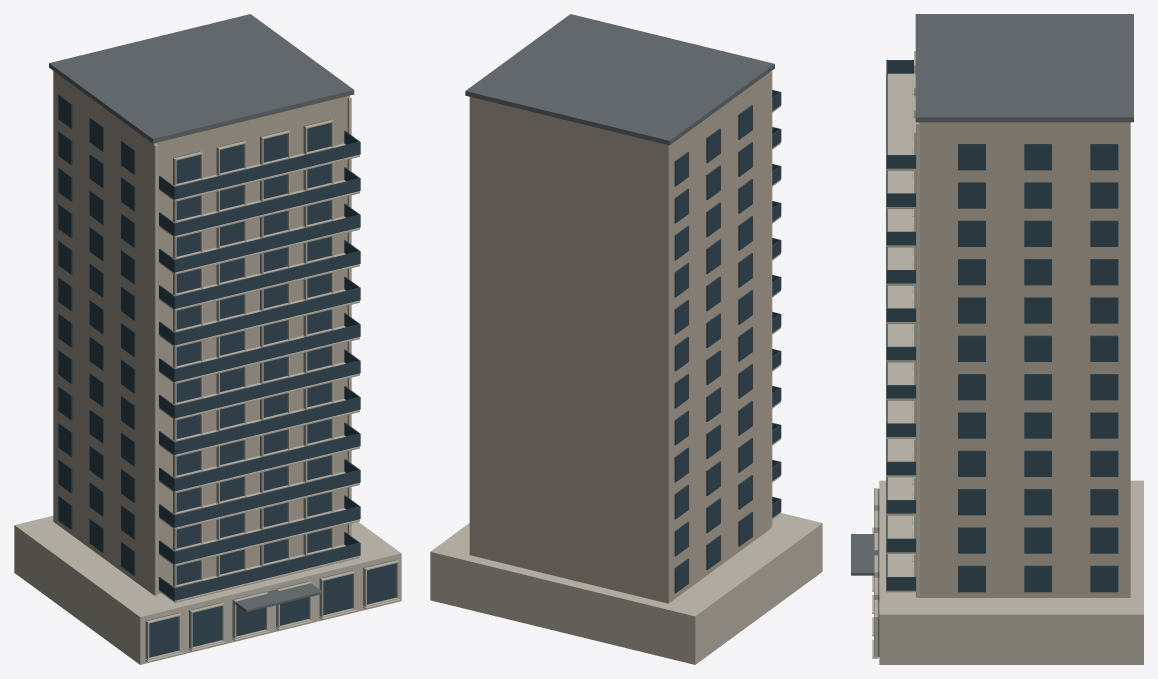
The model's file is residential-tower-sculpted.glb.
3 renders of one model, left to right at view 1: azimuth 30°, elevation 25°; view 2: azimuth 150°, elevation 25°; view 3: azimuth 270°, elevation 25°, orthographic. The views are drawn at different scales.
Parts seen in each view (by area): view 1: glass, wall, stone, roof; view 2: wall, stone, roof, glass; view 3: wall, stone, glass, roof.
Part boxes in pixels (box(x1,y1,x2,y2)): glass: box(58, 94, 396, 657); wall: box(53, 71, 349, 594); stone: box(14, 97, 401, 664); roof: box(49, 14, 395, 658); wall: box(469, 72, 770, 603); stone: box(430, 71, 822, 664); roof: box(465, 14, 774, 145); glass: box(674, 90, 781, 593); wall: box(919, 122, 1130, 597); stone: box(872, 51, 1143, 664); glass: box(886, 60, 1118, 592); roof: box(851, 14, 1133, 656).
Size of the model in its own units: 24 by 44.4 by 22.15.
